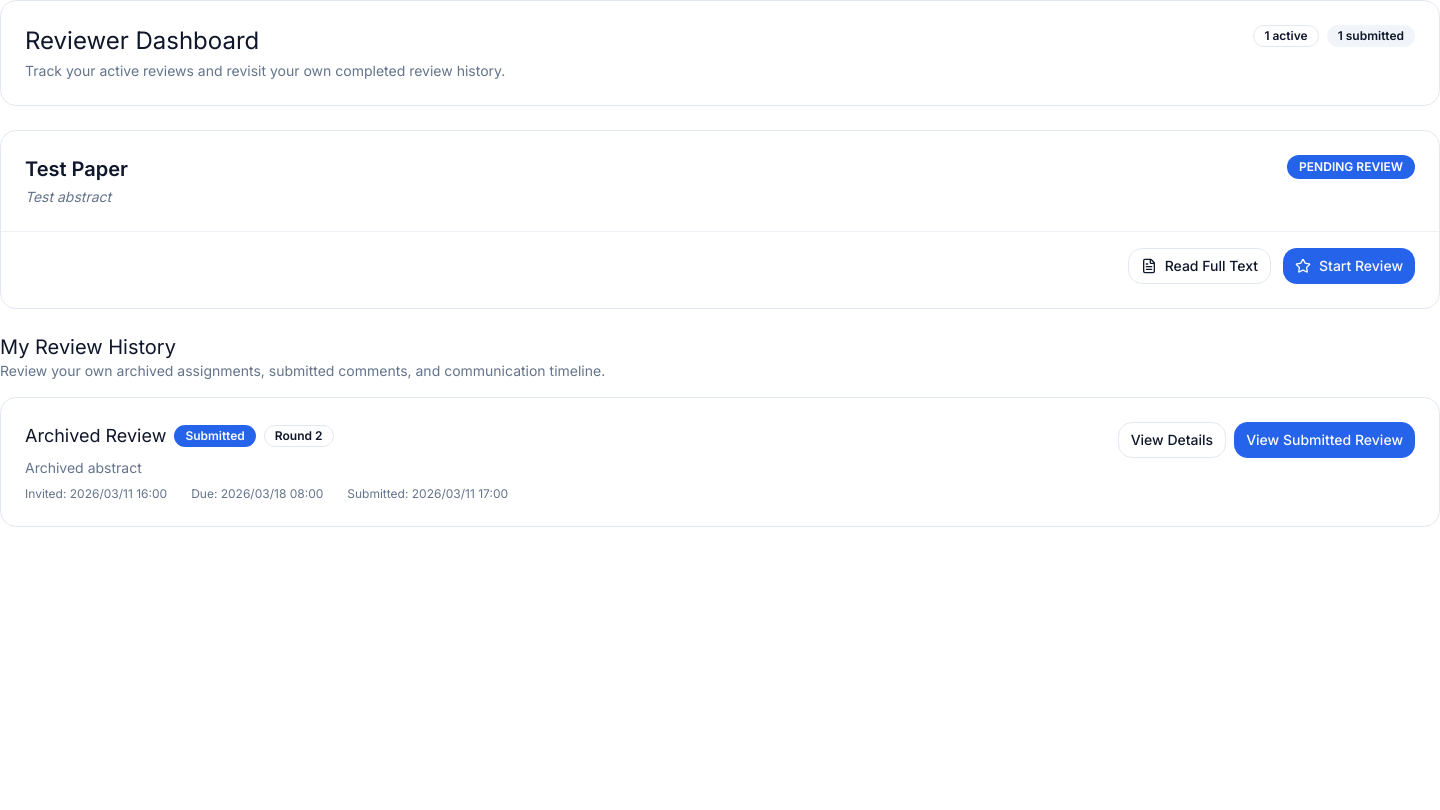
Test: ReviewerDashboard › renders reviewer history and shows read-only archived details
The width and height of the screenshot is (1440, 810).
Check: the heading "My Review History" is shown, box left=0, top=335, right=176, bottom=359
Check: the heading "Archived Review" is shown, box left=25, top=422, right=166, bottom=450
Click the button "View Details": coordinates (1172, 440) left=1118, top=422, right=1226, bottom=458
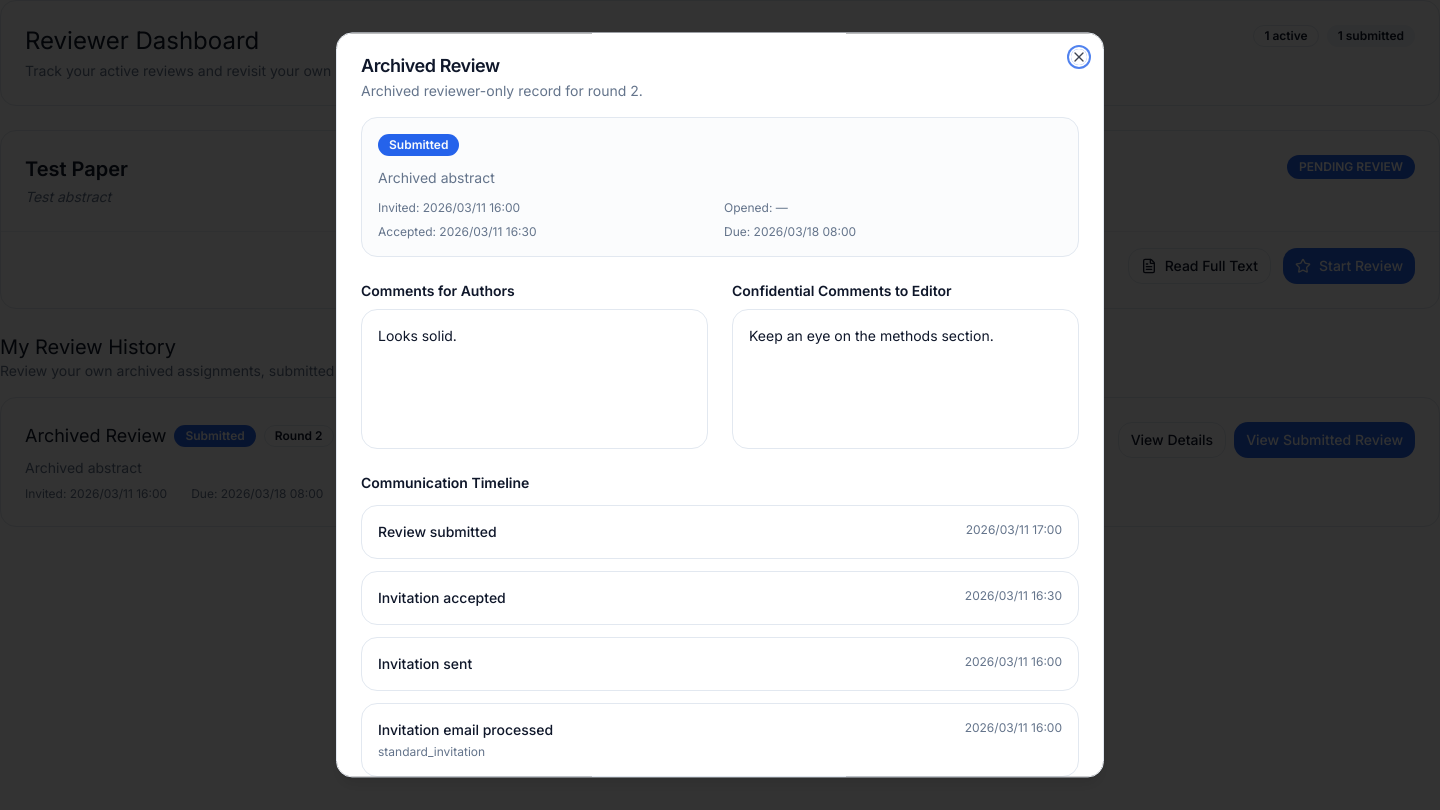
Check: the heading "Comments for Authors" is shown, box left=361, top=282, right=515, bottom=299
Check: the text "Looks solid." is shown, box left=361, top=309, right=708, bottom=449
Check: the text "Keep an eye on the methods section." is shown, box left=732, top=309, right=1079, bottom=449
